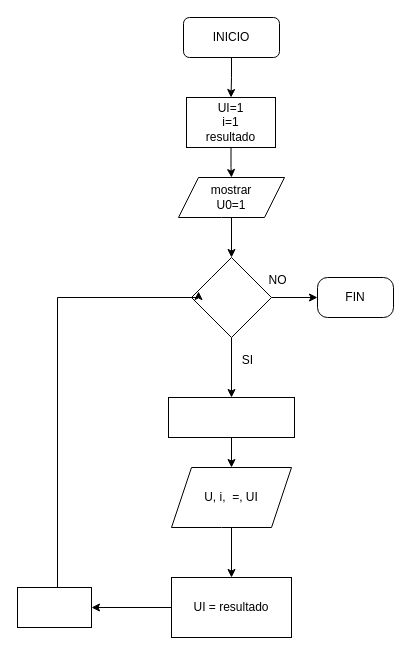
Image size: 411x655. Some labels were removed from this diagram. The shapes that lost their labels are listed below. From the top down, each one's box as (x1, y1, x2, y2) in pixels, then its label:
(190, 256, 272, 338): 10>=i
(168, 396, 294, 438): resultado= UI//i+1)
(16, 586, 92, 628): ++i
